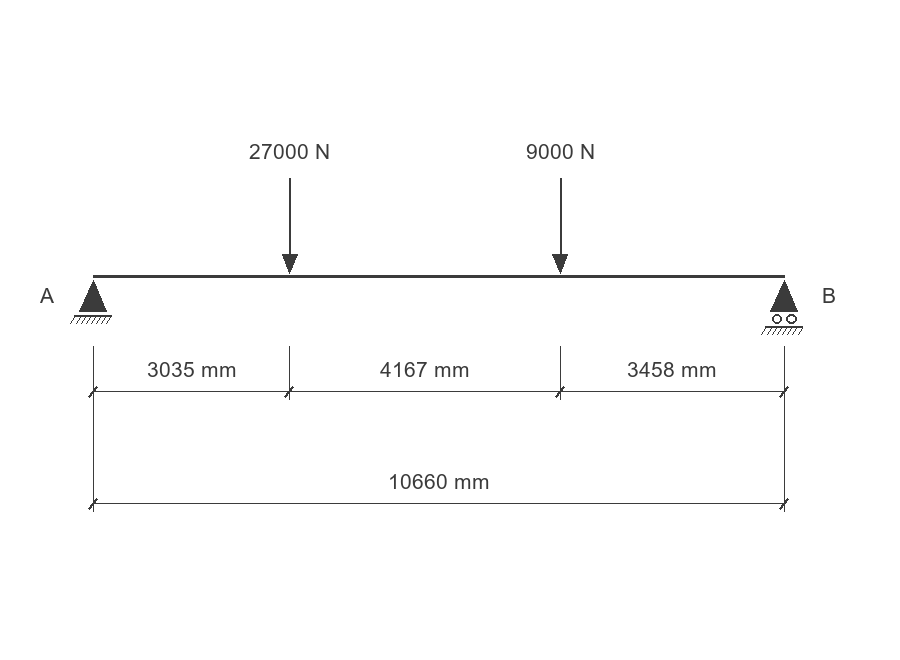pin_support: (70, 280, 112, 324)
point_load: (282, 178, 298, 274), (552, 178, 568, 274)
roller_support: (761, 280, 803, 335)
